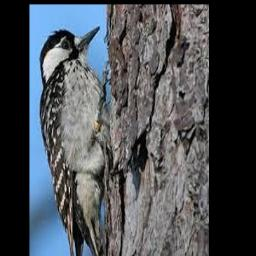Woodpecker: (39, 26, 129, 256)
